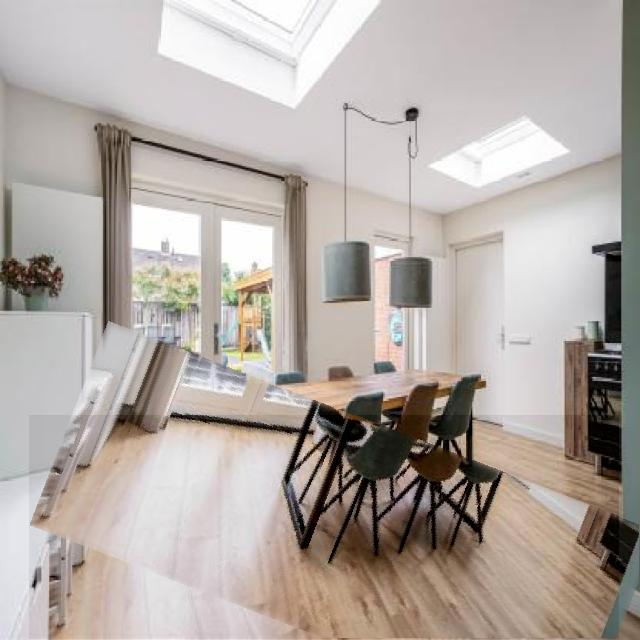floor: (29, 415, 619, 639)
